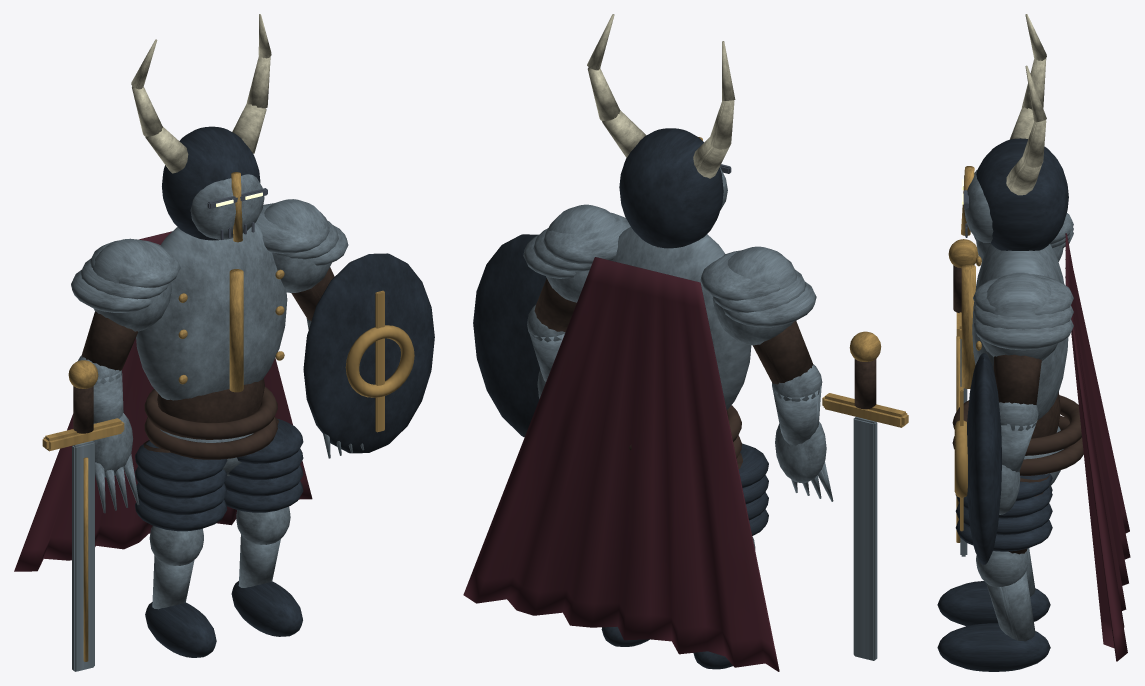
File: enemy_baron.glb
3 views of the same model, side by side, from view 1: azimuth 30°, elevation 25°; view 2: azimuth 150°, elevation 25°; view 3: azimuth 270°, elevation 25° (orthographic). The views are drawn at different scales.
Visible parts, largest first — view 1: Weathered_blue_steel, Forged_black_iron.003, Weathered_blue_steel.002, Worn_crimson_cloth, Forged_black_iron, Oiled_leather, Forged_black_iron.001, Antique_brass.002, Weathered_blue_steel.004, Forged_black_iron.002, Aged_bone, Weathered_blue_steel.006 (+7 smaller); view 2: Worn_crimson_cloth, Weathered_blue_steel.002, Forged_black_iron.003, Forged_black_iron.002, Weathered_blue_steel.004, Weathered_blue_steel.006, Weathered_blue_steel, Aged_bone, Forged_black_iron, Oiled_leather.002, Antique_brass.002, Oiled_leather.004 (+1 smaller); view 3: Weathered_blue_steel.004, Worn_crimson_cloth, Forged_black_iron.001, Forged_black_iron.002, Forged_black_iron.003, Weathered_blue_steel, Aged_bone, Oiled_leather, Weathered_blue_steel.003, Antique_brass.002, Forged_black_iron, Oiled_leather.004 (+5 smaller).
Boxes of the visible parts, box(x1,y1,x2,y2) form: Weathered_blue_steel: box(136, 223, 287, 475); Forged_black_iron.003: box(303, 253, 434, 453); Weathered_blue_steel.002: box(71, 238, 180, 513); Worn_crimson_cloth: box(14, 231, 312, 571); Forged_black_iron: box(135, 440, 227, 657); Oiled_leather: box(144, 378, 277, 459); Forged_black_iron.001: box(224, 419, 303, 636); Antique_brass.002: box(42, 290, 414, 661); Weathered_blue_steel.004: box(255, 199, 364, 458); Forged_black_iron.002: box(162, 126, 260, 240); Aged_bone: box(131, 14, 271, 173); Weathered_blue_steel.006: box(72, 441, 94, 671); Worn_crimson_cloth: box(463, 257, 779, 671); Weathered_blue_steel.002: box(700, 246, 833, 501); Forged_black_iron.003: box(473, 234, 546, 437); Forged_black_iron.002: box(619, 128, 723, 248); Weathered_blue_steel.004: box(523, 204, 630, 398); Weathered_blue_steel.006: box(853, 417, 877, 660); Weathered_blue_steel: box(611, 227, 751, 409); Aged_bone: box(587, 14, 735, 178); Forged_black_iron: box(693, 443, 768, 669); Oiled_leather.002: box(753, 321, 813, 384); Antique_brass.002: box(822, 331, 908, 427); Oiled_leather.004: box(534, 278, 576, 331); Weathered_blue_steel.004: box(973, 272, 1073, 545); Worn_crimson_cloth: box(1065, 233, 1130, 661); Forged_black_iron.001: box(937, 473, 1052, 671); Forged_black_iron.002: box(976, 138, 1068, 250); Forged_black_iron.003: box(967, 353, 1001, 564); Weathered_blue_steel: box(972, 244, 1068, 487); Aged_bone: box(1006, 14, 1046, 195); Oiled_leather: box(952, 392, 1083, 475); Weathered_blue_steel.003: box(976, 551, 1035, 641); Antique_brass.002: box(948, 239, 978, 542); Forged_black_iron: box(937, 486, 1052, 626); Oiled_leather.004: box(993, 354, 1041, 404).
Bounding box in the file's own units: 4.98 × 7.13 × 2.05.
9 materials, 7 textured.
